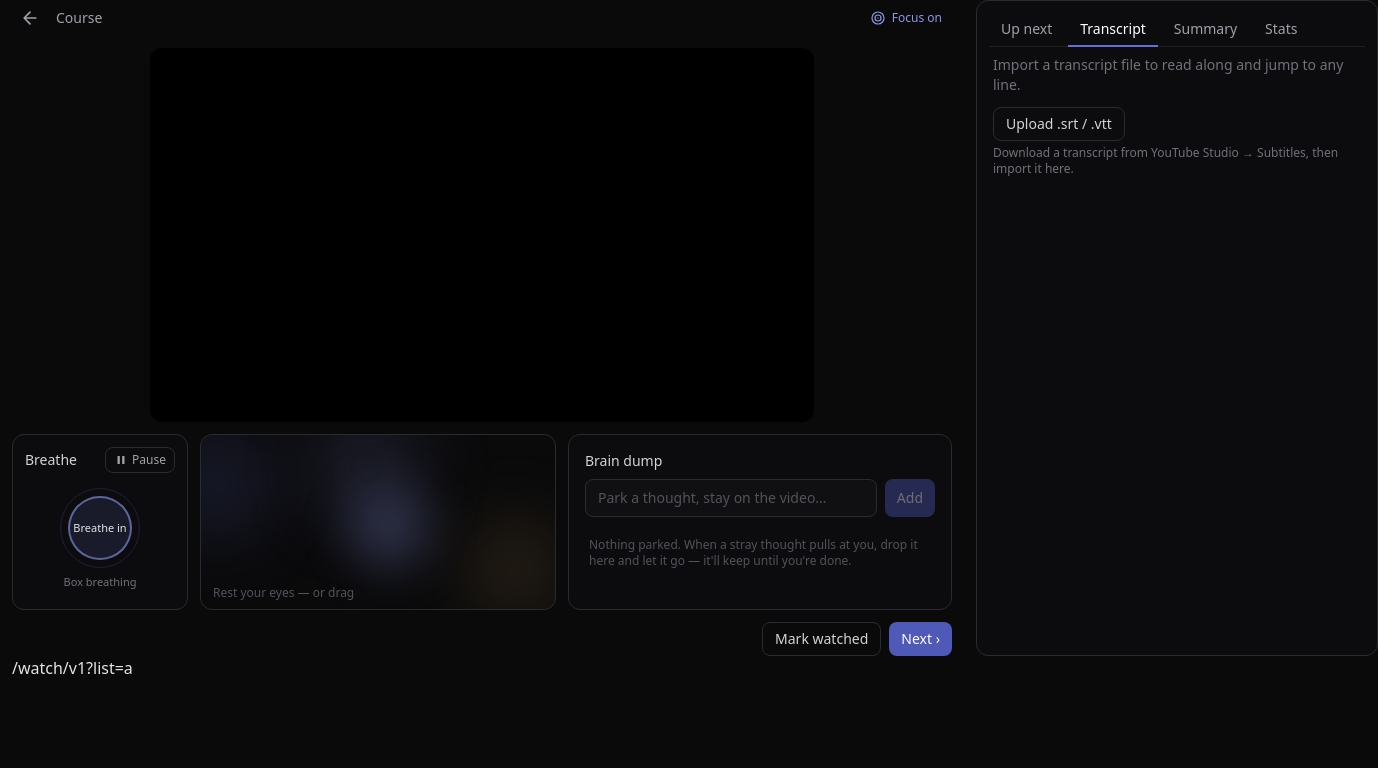
side tabs › loads the Recall summary into its tab
Click the button "Summary". click: (1205, 30)
box: [1162,13,1249,47]
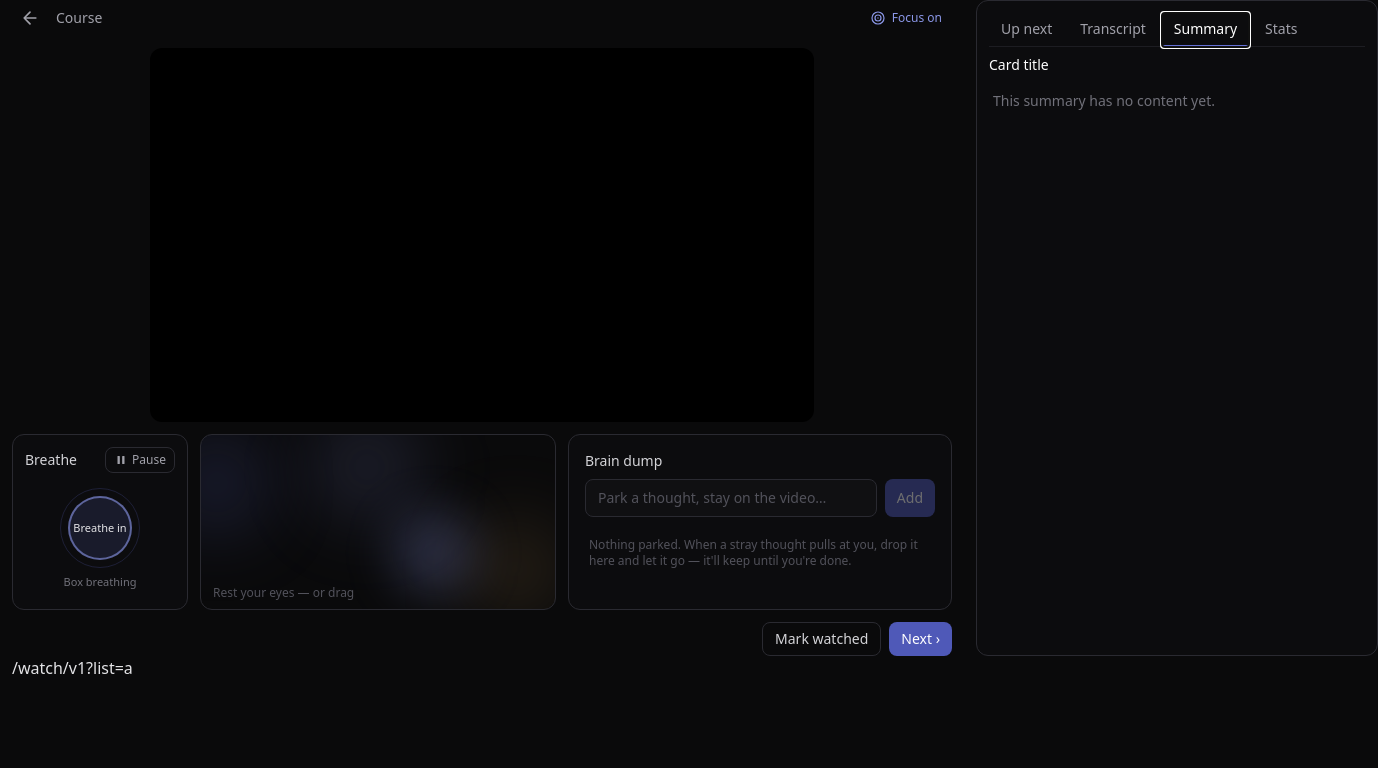
Expected: the heading "Card title" is shown, [989,55,1049,74]
